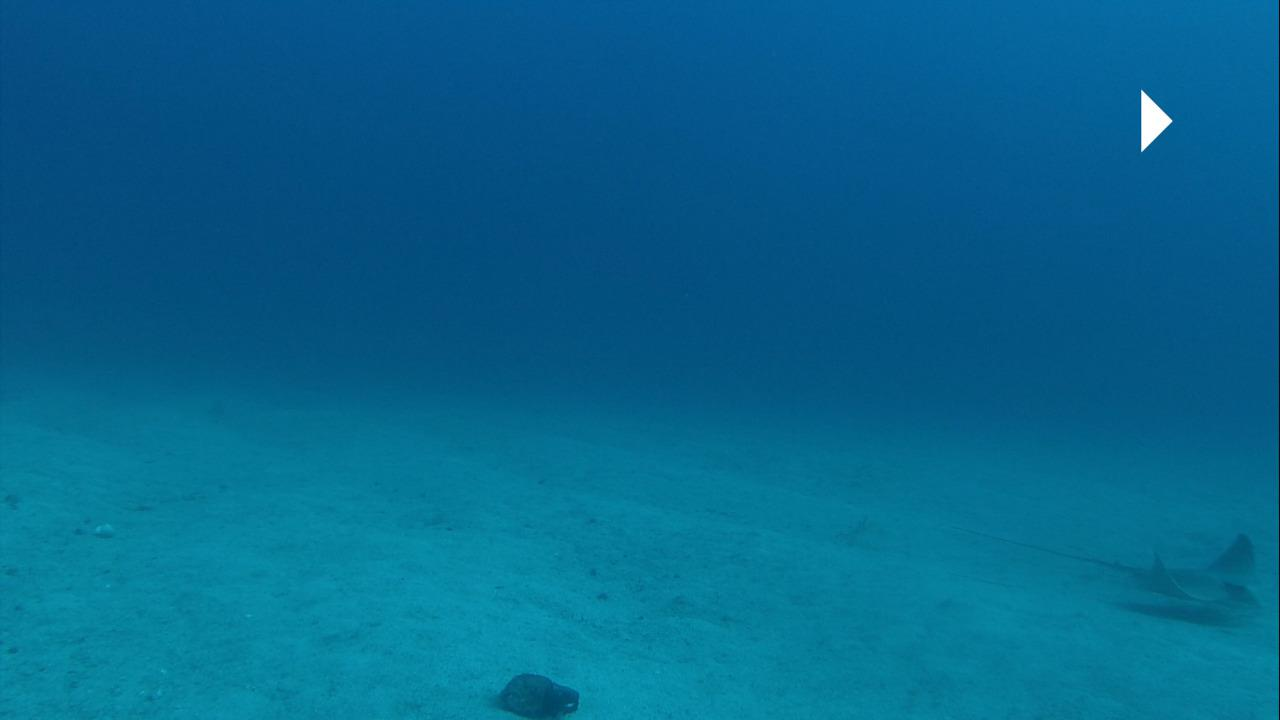myliobatis: (967, 529, 1265, 619)
